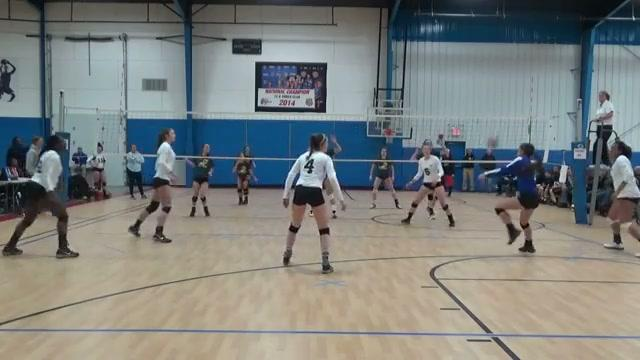ball: (483, 134, 502, 153)
